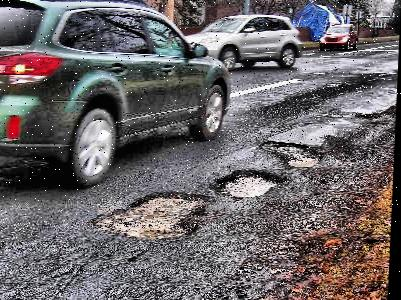pothole: (93, 188, 215, 242), (214, 167, 286, 200), (259, 138, 326, 169)
